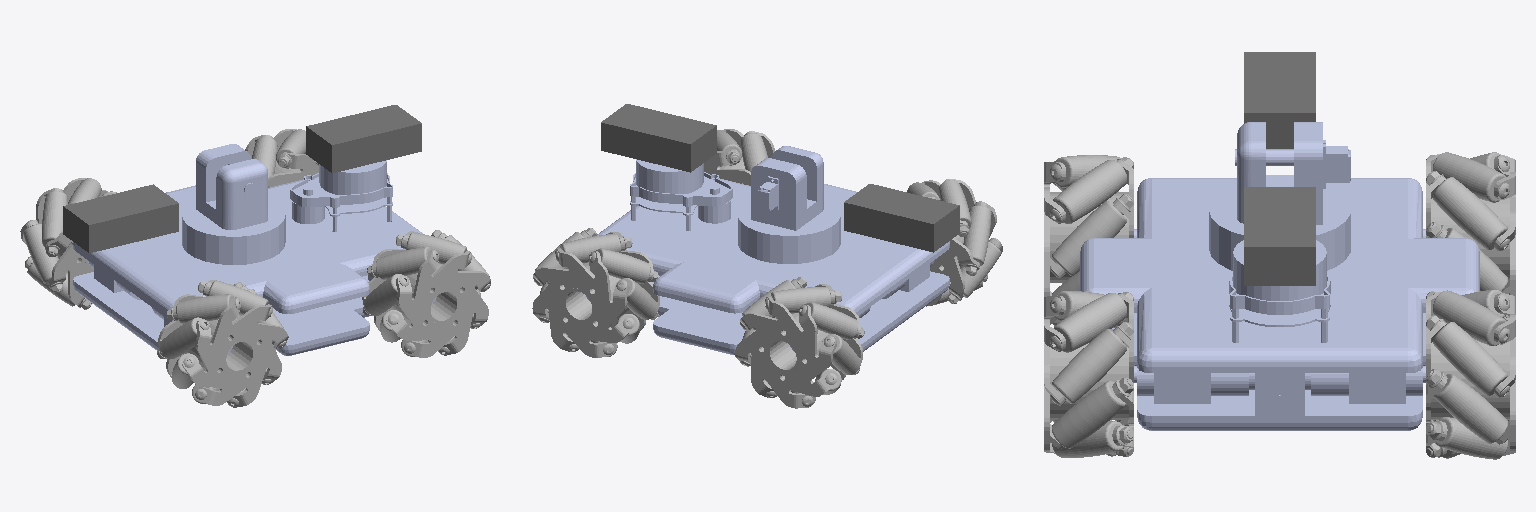
URDF robot description (urdf):
<?xml version="1.0" ?>
<robot name="urdf">
  <link name="base_footprint" />

  <joint name="base_footprint_to_base_link" type="fixed">
    <parent link="base_footprint"/>
    <child link="base_link"/>
  </joint>

  <link name="base_link">
    <inertial>
      <origin xyz="-0.00280638761136618 9.22799255059434E-05 -0.00823780680525314" rpy="0 0 0" />
      <mass value="2.73624245548653" />
      <inertia ixx="0.0111853471576075" ixy="-7.2511498712482E-11" ixz="0.000255799746468985" iyy="0.0161314353661535" iyz="1.81571166508761E-07" izz="0.0239017300755925" />
    </inertial>
    <visual>
      <origin xyz="0 0 0" rpy="0 0 0" />
      <geometry>
        <mesh filename="package://final/meshes/base_link.STL" />
      </geometry>
      <material name="">
        <color rgba="0.792156862745098 0.819607843137255 0.933333333333333 1" />
      </material>
    </visual>
    <collision>
      <origin xyz="0 0 0" rpy="0 0 0" />
      <geometry>
        <mesh filename="package://final/meshes/base_link.STL" />
      </geometry>
    </collision>
  </link>

  <link name="Left_forward_wheel">
    <inertial>
      <origin xyz="1.2490009027033E-16 -6.1409211049579E-16 -0.0318963397161268" rpy="0 0 0" />
      <mass value="0.38693434007123" />
      <inertia ixx="0.000164665684225832" ixy="1.03435021381098E-16" ixz="2.79933590586541E-16" iyy="0.000164665684225701" iyz="1.53586588595806E-16" izz="0.000205539151193427" />
    </inertial>
    <visual>
      <origin xyz="0 0 0" rpy="0 0 0" />
      <geometry>
        <mesh filename="package://final/meshes/Left_forward_wheel.STL" />
      </geometry>
      <material name="">
        <color rgba="0.752941176470588 0.752941176470588 0.752941176470588 1" />
      </material>
    </visual>
    <collision>
      <origin xyz="0 0 0" rpy="0 0 0" />
      <geometry>
        <mesh filename="package://final/meshes/Left_forward_wheel.STL" />
      </geometry>
    </collision>
  </link>

  <joint name="Left_forward_joint" type="continuous">
    <origin xyz="0.1135 0.165 -0.0179" rpy="-1.5708 0 0" />
    <parent link="base_link" />
    <child link="Left_forward_wheel" />
    <axis xyz="0 0 1" />
    <dynamics damping="0.1" friction="0.1" />
  </joint>

  <link name="Right_forward_wheel">
    <inertial>
      <origin xyz="-1.2490009027033E-16 4.85722573273506E-17 -0.0318963396900528" rpy="0 0 0" />
      <mass value="0.386934339646562" />
      <inertia ixx="0.00016466568423101" ixy="-3.19541061769317E-17" ixz="-3.82361260302432E-17" iyy="0.000164665684231041" iyz="-2.40756939158418E-17" izz="0.000205539151181393" />
    </inertial>
    <visual>
      <origin xyz="0 0 0" rpy="0 0 0" />
      <geometry>
        <mesh filename="package://final/meshes/Right_forward_wheel.STL" />
      </geometry>
      <material name="">
        <color rgba="0.752941176470588 0.752941176470588 0.752941176470588 1" />
      </material>
    </visual>
    <collision>
      <origin xyz="0 0 0" rpy="0 0 0" />
      <geometry>
        <mesh filename="package://final/meshes/Right_forward_wheel.STL" />
      </geometry>
    </collision>
  </link>

  <joint name="Right_forward_joint" type="continuous">
    <origin xyz="0.1135 -0.165 -0.0179" rpy="1.5708 0 0" />
    <parent link="base_link" />
    <child link="Right_forward_wheel" />
    <axis xyz="0 0 -1" />
    <dynamics damping="0.1" friction="0.1" />
  </joint>

  <link name="Left_backward_wheel">
    <inertial>
      <origin xyz="-3.88578058618805E-16 1.52655665885959E-16 -0.0318963396983103" rpy="0 0 0" />
      <mass value="0.38693433977405" />
      <inertia ixx="0.000164665684224543" ixy="-5.44366971754961E-17" ixz="-1.64638873428518E-17" iyy="0.000164665684224467" iyz="-4.73291942910437E-17" izz="0.000205539151192063" />
    </inertial>
    <visual>
      <origin xyz="0 0 0" rpy="0 0 0" />
      <geometry>
        <mesh filename="package://final/meshes/Left_backward_wheel.STL" />
      </geometry>
      <material name="">
        <color rgba="0.752941176470588 0.752941176470588 0.752941176470588 1" />
      </material>
    </visual>
    <collision>
      <origin xyz="0 0 0" rpy="0 0 0" />
      <geometry>
        <mesh filename="package://final/meshes/Left_backward_wheel.STL" />
      </geometry>
    </collision>
  </link>

  <joint name="Left_backward_joint" type="continuous">
    <origin xyz="-0.1135 0.165 -0.0179" rpy="-1.5708 0 0" />
    <parent link="base_link" />
    <child link="Left_backward_wheel" />
    <axis xyz="0 0 1" />
    <dynamics damping="0.1" friction="0.1" />
  </joint>

  <link name="Right_backward_wheel">
    <inertial>
      <origin xyz="3.88578058618805E-16 3.81639164714898E-17 -0.0318963396918449" rpy="0 0 0" />
      <mass value="0.386934339673269" />
      <inertia ixx="0.000164665684230379" ixy="7.84436153661023E-17" ixz="-5.11751895742631E-17" iyy="0.000164665684230335" iyz="-1.24644074562022E-17" izz="0.000205539151179241" />
    </inertial>
    <visual>
      <origin xyz="0 0 0" rpy="0 0 0" />
      <geometry>
        <mesh filename="package://final/meshes/Right_backward_wheel.STL" />
      </geometry>
      <material name="">
        <color rgba="0.752941176470588 0.752941176470588 0.752941176470588 1" />
      </material>
    </visual>
    <collision>
      <origin xyz="0 0 0" rpy="0 0 0" />
      <geometry>
        <mesh filename="package://final/meshes/Right_backward_wheel.STL" />
      </geometry>
    </collision>
  </link>

  <joint name="Right_backward_joint" type="continuous">
    <origin xyz="-0.1135 -0.165 -0.0179" rpy="1.5708 0 0" />
    <parent link="base_link" />
    <child link="Right_backward_wheel" />
    <axis xyz="0 0 -1" />
    <dynamics damping="0.1" friction="0.1" />
  </joint>

  <link name="lidar">
    <inertial>
      <origin xyz="-0.00829409957033964 -6.93889390390723E-18 0.010701142222791" rpy="0 0 0" />
      <mass value="0.146695752131392" />
      <inertia ixx="6.22721120792818E-05" ixy="-1.8353446398283E-20" ixz="-1.88658076337422E-05" iyy="0.000109673997590948" iyz="-8.39148657969651E-21" izz="0.000125682524275729" />
    </inertial>
    <visual>
      <origin xyz="0 0 0" rpy="0 0 0" />
      <geometry>
        <mesh filename="package://final/meshes/lidar.STL" />
      </geometry>
      <material name="">
        <color rgba="0.792156862745098 0.819607843137255 0.933333333333333 1" />
      </material>
    </visual>
    <collision>
      <origin xyz="0 0 0" rpy="0 0 0" />
      <geometry>
        <mesh filename="package://final/meshes/lidar.STL" />
      </geometry>
    </collision>
  </link>

  <joint name="lidar_joint" type="fixed">
    <origin xyz="0.108 0 0.042" rpy="0 0 0" />
    <parent link="base_link" />
    <child link="lidar" />
    <axis xyz="0 0 0" />
    <dynamics damping="0.1" friction="0.1" />
  </joint>

  <gazebo reference="lidar">
    <sensor name="lidar_sensor" type="ray">
      <pose>0 0 0 0 0 0</pose>
      <visualize>true</visualize>
      <update_rate>10.0</update_rate>
      <ray>
        <scan>
          <horizontal>
            <samples>720</samples>
            <resolution>1</resolution>
            <min_angle>-2.5708</min_angle>
            <max_angle>2.5708</max_angle>
          </horizontal>
        </scan>
        <range>
          <min>0.1</min>
          <max>10.0</max>
          <resolution>0.01</resolution>
        </range>
        <noise>
          <type>gaussian</type>
          <mean>0.0</mean>
          <stddev>0.01</stddev>
        </noise>
      </ray>
      <plugin name="gazebo_ros_laser_controller" filename="libgazebo_ros_laser.so">
        <topicName>scan</topicName>
        <frameName>lidar</frameName>
      </plugin>
    </sensor>
  </gazebo>

  <link name="rear_camera">
    <visual>
      <geometry>
        <box size="0.1 0.05 0.03"/>
      </geometry>
      <material name="Gray">
        <color rgba="0.5 0.5 0.5 0.0"/>
      </material>
    </visual>
    <inertial>
      <mass value="0.1"/>
      <origin xyz="0 0 0"/>
      <inertia ixx="0.01" iyy="0.01" izz="0.01" ixy="0" ixz="0" iyz="0"/>
    </inertial>
  </link>
  <joint name="rear_camera_joint" type="fixed">
    <parent link="base_link"/>
    <child link="rear_camera"/>
    <origin xyz="-0.15 0 0.07" rpy="0 0 3.14"/>
  </joint>

  <gazebo reference="rear_camera">
    <sensor name="camera_rear" type="camera">
      <update_rate>30</update_rate>
      <camera>
        <horizontal_fov>1.396</horizontal_fov>
        <image>
          <width>640</width>
          <height>480</height>
          <format>R8G8B8</format>
        </image>
        <clip>
          <near>0.02</near>
          <far>100</far>
        </clip>
      </camera>
      <plugin name="gazebo_ros_camera" filename="libgazebo_ros_camera.so">
        <alwaysOn>true</alwaysOn>
        <updateRate>30.0</updateRate>
        <cameraName>rear_camera</cameraName>
        <imageTopicName>/rear_camera/image_raw</imageTopicName>
        <cameraInfoTopicName>/rear_camera/camera_info</cameraInfoTopicName>
        <frameName>rear_camera</frameName>
      </plugin>
    </sensor>
  </gazebo>

  <!-- front camera -->

  <link name="front_camera">
    <visual>
      <geometry>
        <box size="0.1 0.05 0.03"/>
      </geometry>
      <material name="Gray">
        <color rgba="0.5 0.5 0.5 0.0"/>
      </material>
    </visual>
    <inertial>
      <mass value="0.1"/>
      <origin xyz="0 0 0"/>
      <inertia ixx="0.01" iyy="0.01" izz="0.01" ixy="0" ixz="0" iyz="0"/>
    </inertial>
  </link>
  <joint name="front_camera_joint" type="fixed">
    <parent link="base_link"/>
    <child link="front_camera"/>
    <origin xyz="0.12 0 0.092" rpy="0 0 0"/>
  </joint>

  <gazebo reference="front_camera">
    <sensor name="front_camera" type="camera">
      <update_rate>30</update_rate>
      <camera>
        <horizontal_fov>1.396</horizontal_fov>
        <image>
          <width>640</width>
          <height>480</height>
          <format>R8G8B8</format>
        </image>
        <clip>
          <near>0.02</near>
          <far>100</far>
        </clip>
      </camera>
      <plugin name="gazebo_ros_camera" filename="libgazebo_ros_camera.so">
        <alwaysOn>true</alwaysOn>
        <updateRate>30.0</updateRate>
        <cameraName>front_camera</cameraName>
        <imageTopicName>/front_camera/image_raw</imageTopicName>
        <cameraInfoTopicName>/front_camera/camera_info</cameraInfoTopicName>
        <frameName>front_camera</frameName>
      </plugin>
    </sensor>
  </gazebo>


  <gazebo>
    <plugin name="omni_steering" filename="libgazebo_ros_planar_move.so">
      <commandTopic>cmd_vel</commandTopic>
      <odometryTopic>odom</odometryTopic>
      <odometryFrame>odom</odometryFrame>
      <odometryRate>20.0</odometryRate>
      <robotBaseFrame>base_footprint</robotBaseFrame>
      <cmdTimeout>1.0</cmdTimeout>
    </plugin>
  </gazebo>
</robot>

--- Facts derived from the render (not from the file) ---
Views: 3 orthographic renders of the robot side by side, from view 1: azimuth 30°, elevation 25°; view 2: azimuth 150°, elevation 25°; view 3: azimuth 270°, elevation 25°.
Model urdf with 9 links and 8 joints (4 continuous, 4 fixed), rooted at base_footprint, posed every joint at zero.
Links seen in each view (by area): view 1: base_link, Right_backward_wheel, Right_forward_wheel, rear_camera, front_camera, Left_backward_wheel, lidar, Left_forward_wheel; view 2: base_link, Left_forward_wheel, Left_backward_wheel, rear_camera, front_camera, Right_backward_wheel, lidar, Right_forward_wheel; view 3: base_link, Left_forward_wheel, Right_forward_wheel, Left_backward_wheel, Right_backward_wheel, front_camera, rear_camera, lidar.
Boxes of the visible links, x1,y1,x2,y2 form: base_link: (73, 144, 436, 355); Right_backward_wheel: (157, 280, 288, 407); Right_forward_wheel: (362, 230, 490, 357); rear_camera: (63, 184, 178, 252); front_camera: (306, 105, 421, 172); Left_backward_wheel: (20, 178, 116, 309); lidar: (290, 160, 392, 231); Left_forward_wheel: (245, 129, 318, 187); base_link: (586, 146, 949, 354); Left_forward_wheel: (532, 228, 659, 357); Left_backward_wheel: (735, 277, 864, 408); rear_camera: (844, 184, 959, 252); front_camera: (601, 104, 716, 172); Right_backward_wheel: (907, 179, 1002, 306); lidar: (630, 159, 732, 230); Right_forward_wheel: (704, 129, 774, 185); base_link: (1080, 122, 1479, 430); Left_forward_wheel: (1426, 290, 1515, 459); Right_forward_wheel: (1044, 291, 1133, 457); Left_backward_wheel: (1426, 152, 1515, 296); Right_backward_wheel: (1044, 155, 1133, 296); front_camera: (1244, 187, 1315, 285); rear_camera: (1244, 52, 1315, 148); lidar: (1229, 240, 1330, 342).
Bounding box of the posed robot: 0.373 × 0.33 × 0.1848 m (x, y, z).
Meshes: 6 distinct files referenced, 6 mesh visuals loaded (6 binary STL).
